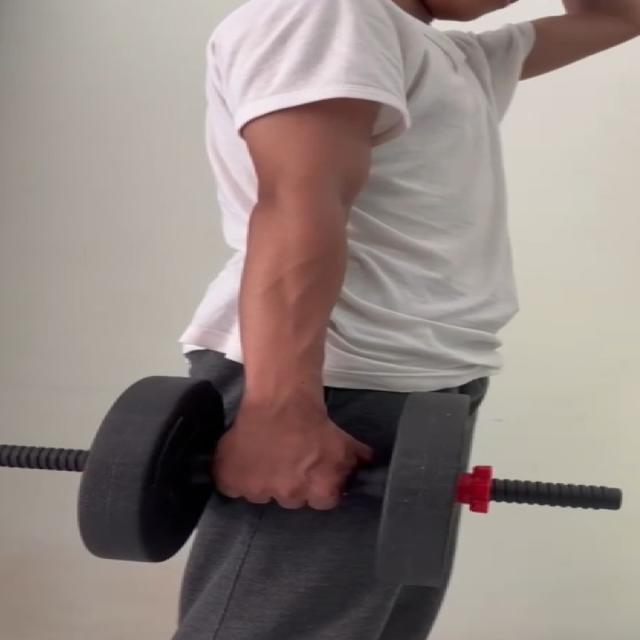hammer: (76, 374, 478, 584)
